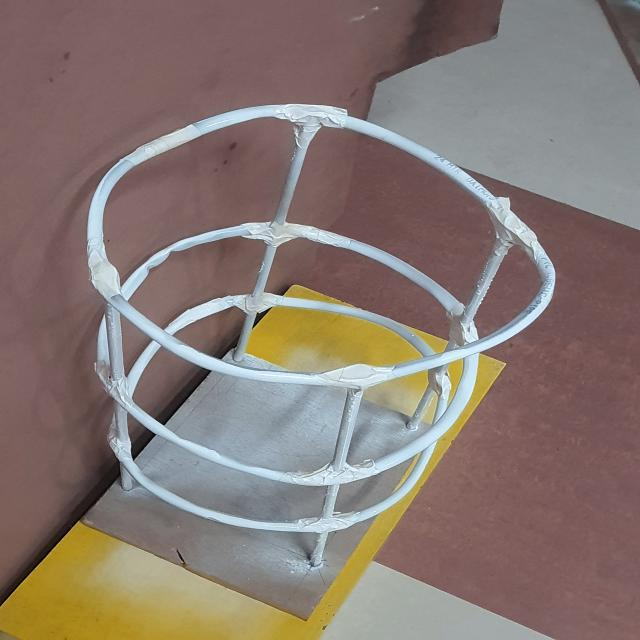silo: (65, 94, 558, 606)
